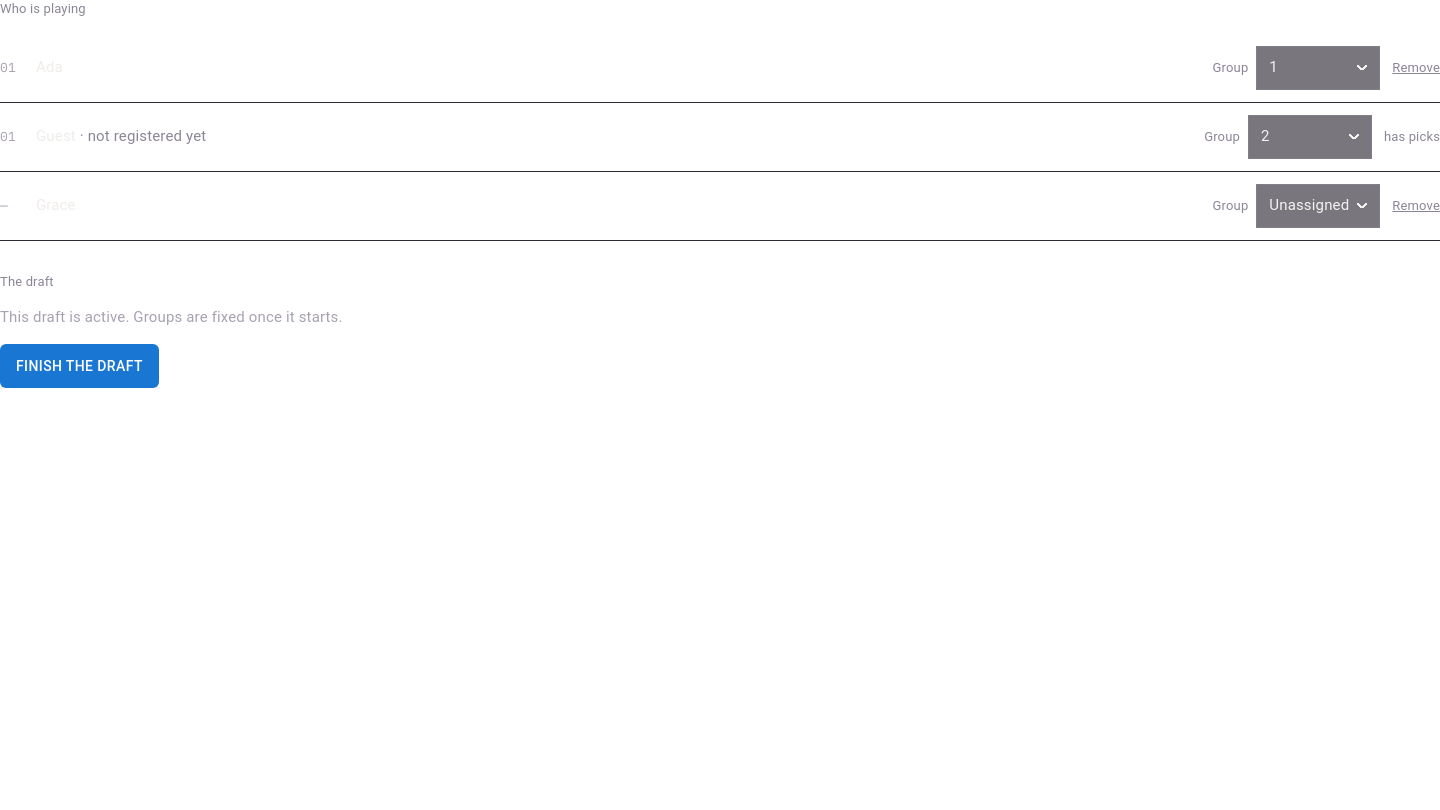
Test case: SeasonSetup › offers a way to end the draft once it is running
Click the button "Finish the draft". click: (79, 366)
box: [0,344,159,388]
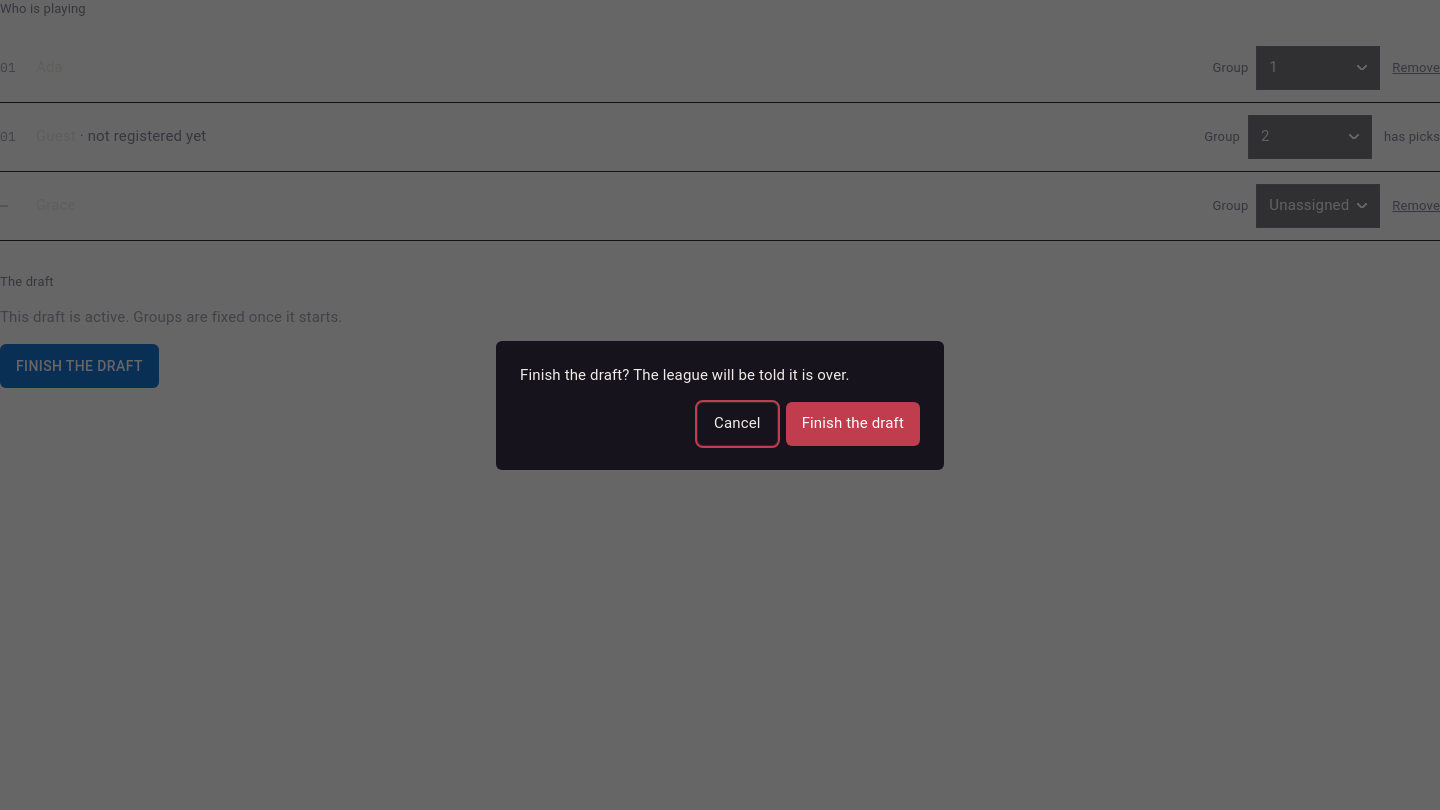
Click the 2nd button "Finish the draft". click: (853, 424)
box: [786,402,920,446]
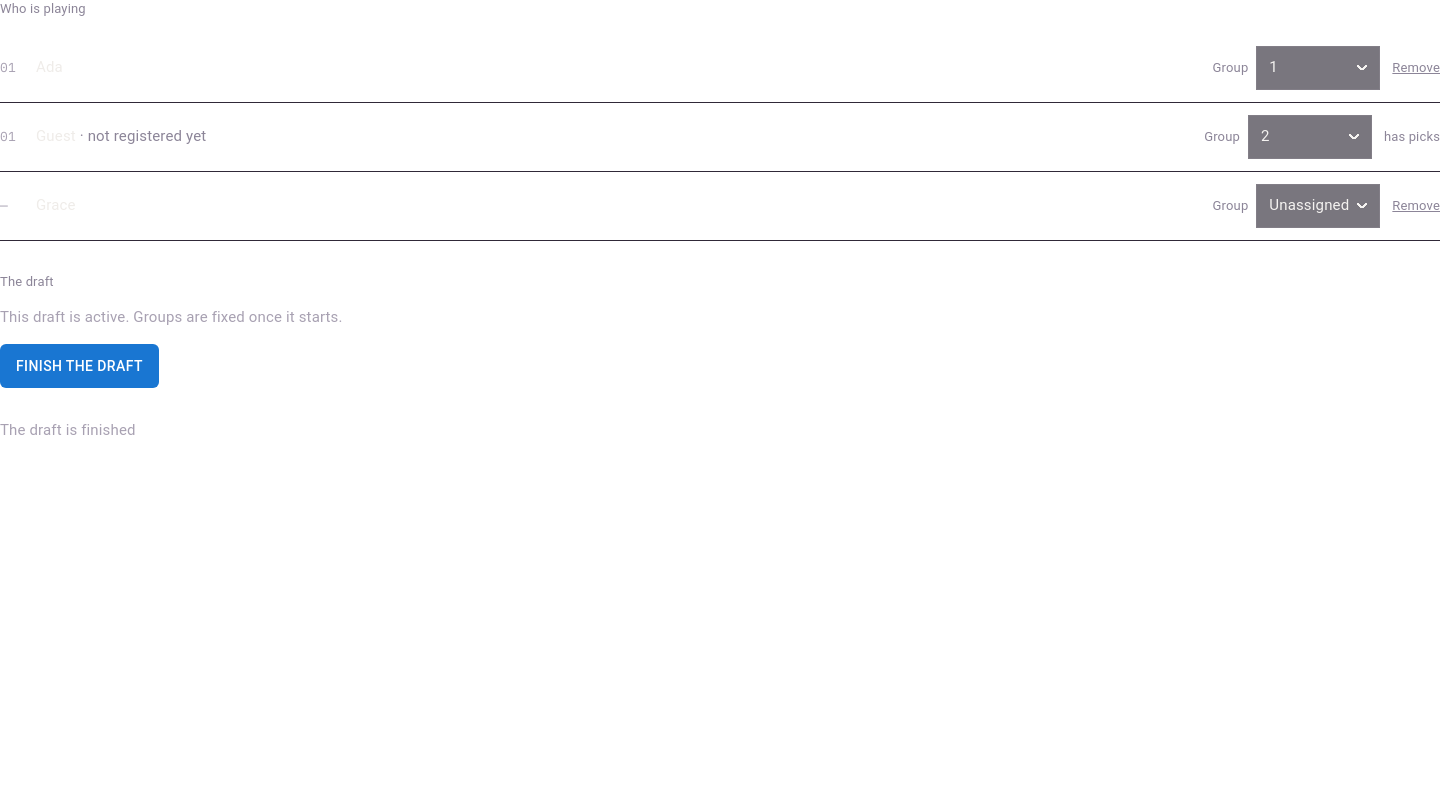
expect the text "The draft is finished" is shown: met, box [0,421,136,439]
